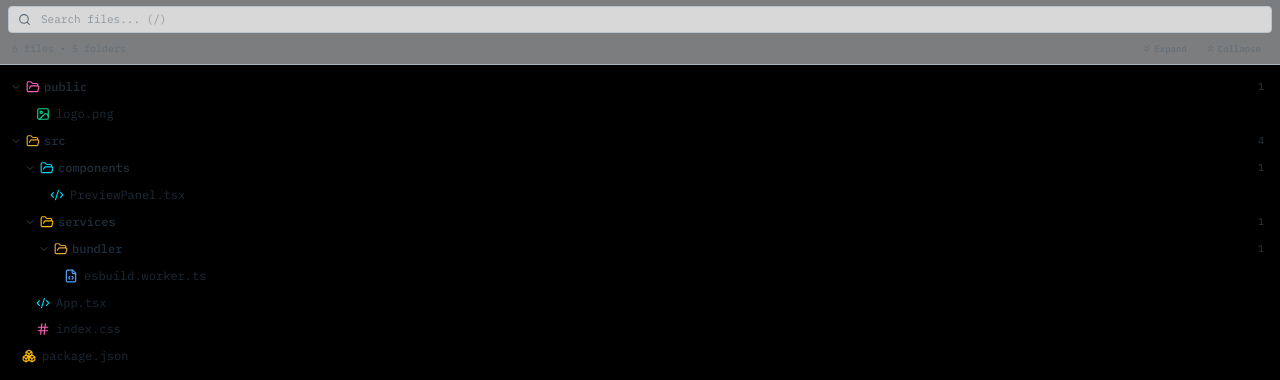
it: FileTree & Global File Search › filters files globally across folders when searching by filename
Type "Preview" into the field with placeholder "Search files... (/)" at (640, 19), box [8,6,1272,32]
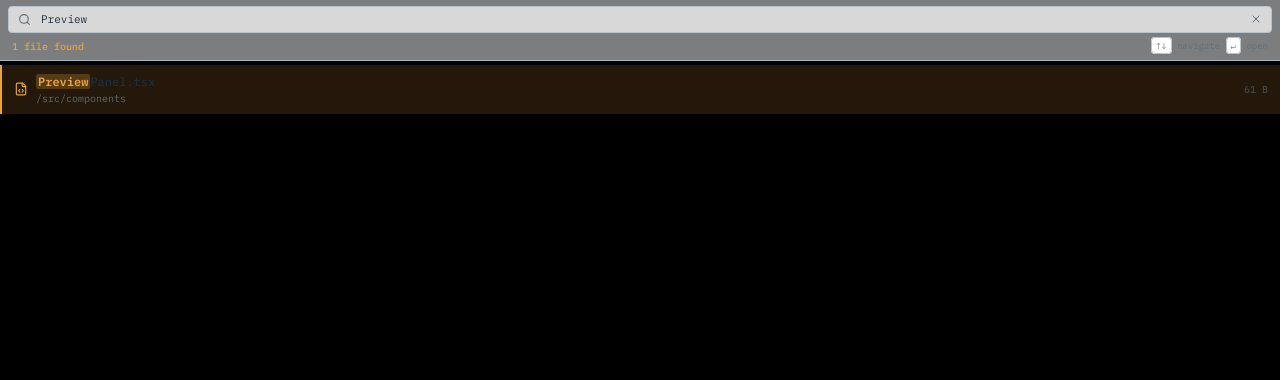
Now the text "1 file found" is shown, box [12,38,84,54]
Now the option shows "PreviewPanel.tsx", box [0,64,1279,114]
Now the option shows "/src/components", box [0,64,1279,114]
